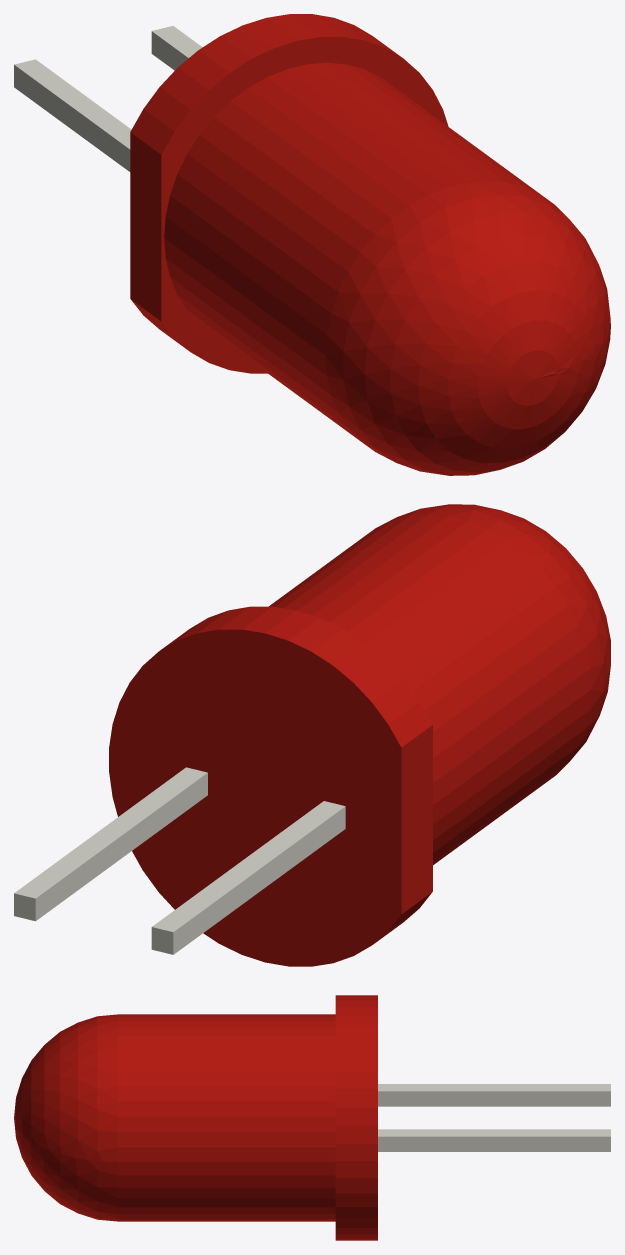
The picture shows the model from 3 angles, top to bottom: view 1: azimuth 30°, elevation 25°; view 2: azimuth 150°, elevation 25°; view 3: azimuth 270°, elevation 25°; orthographic projection. The views are drawn at different scales.
Parts seen in each view (by area): view 1: g0-plastic, g1-metal; view 2: g0-plastic, g1-metal; view 3: g0-plastic, g1-metal.
Boxes of the visible parts, box(x1,y1,x2,y2) form: g0-plastic: box(130, 14, 610, 475); g1-metal: box(14, 26, 202, 171); g0-plastic: box(109, 504, 610, 966); g1-metal: box(14, 767, 345, 954); g0-plastic: box(14, 995, 377, 1240); g1-metal: box(378, 1084, 610, 1151).
Size of the model in its own units: 5.39 by 5.8 by 14.1.
